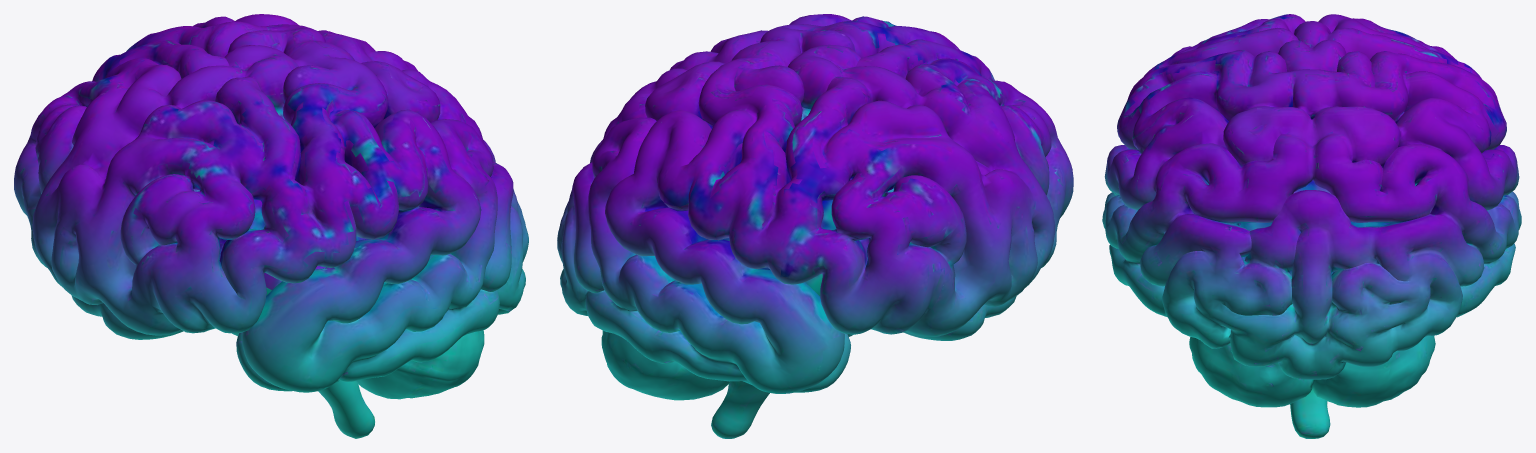
File: brain.glb
3 renders of one model, left to right at view 1: azimuth 30°, elevation 25°; view 2: azimuth 150°, elevation 25°; view 3: azimuth 270°, elevation 25°, orthographic. The views are drawn at different scales.
Visible parts, largest first — view 1: Mesh_0; view 2: Mesh_0; view 3: Mesh_0.
Boxes of the visible parts, x1=… form: Mesh_0: x1=14, y1=14, x2=528, y2=438; Mesh_0: x1=557, y1=14, x2=1073, y2=438; Mesh_0: x1=1102, y1=14, x2=1521, y2=438.
Size of the model in its own units: 1.89 by 1.64 by 1.77.
1 material, 1 textured.
